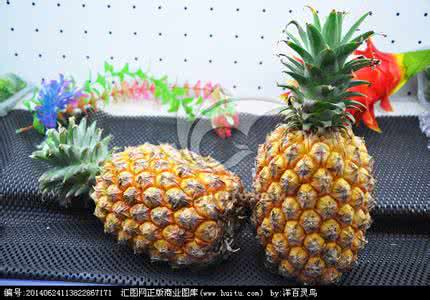pineapple: (254, 8, 372, 285), (40, 118, 246, 261)
